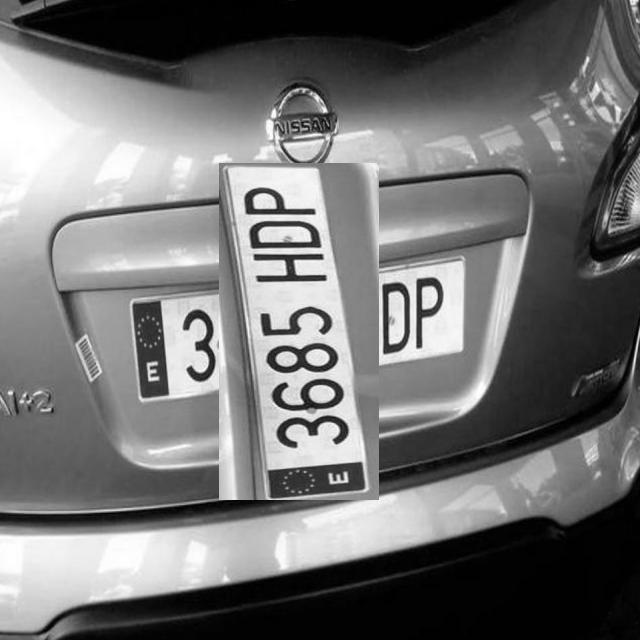License-Plate: (174, 207, 424, 456)
